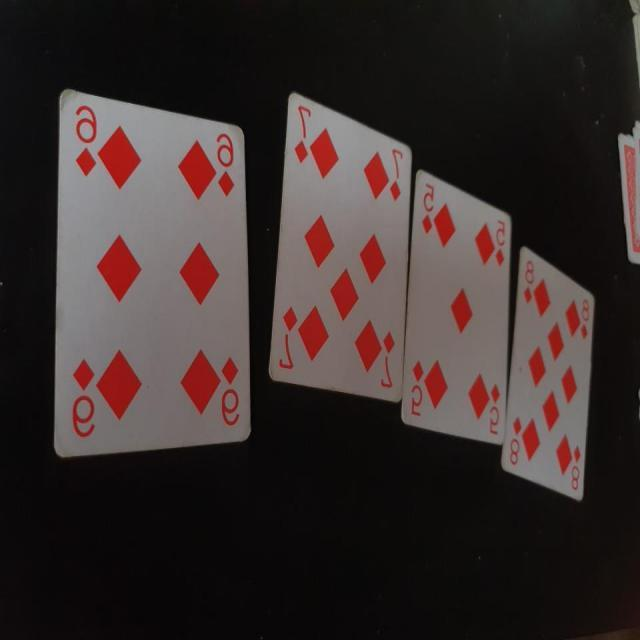5 of diamonds: (399, 169, 515, 443)
6 of diamonds: (53, 84, 254, 450)
7 of diamonds: (266, 93, 416, 404)
8 of diamonds: (500, 244, 596, 504)
